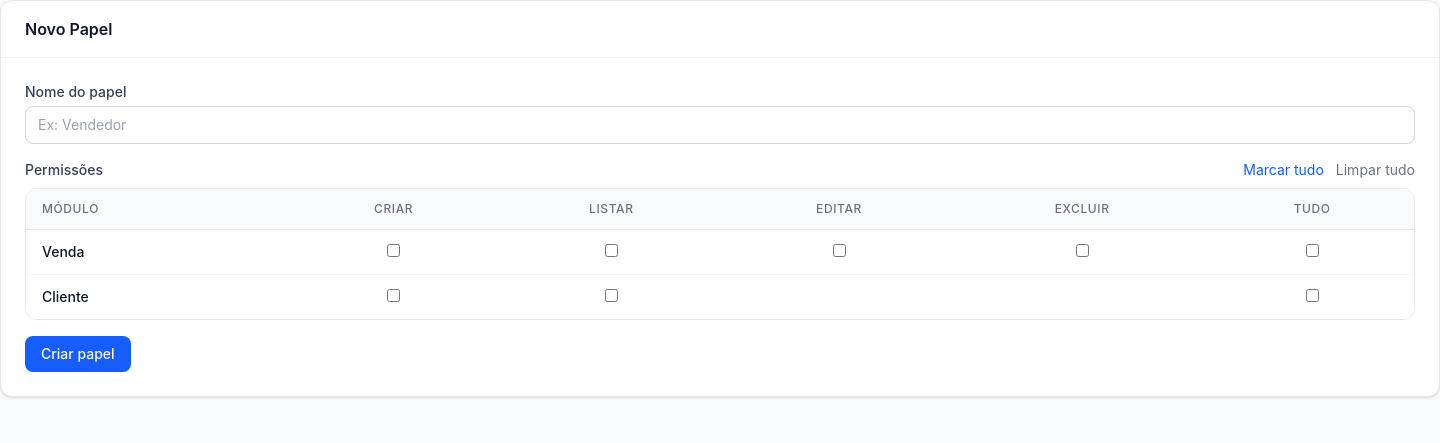
Test: PapelForm › should require at least one permissao selected
This screenshot has width=1440, height=443.
Step 1. Type "Vendedor" into the field labelled "Nome do papel" → (720, 125), box [25,106,1415,144]
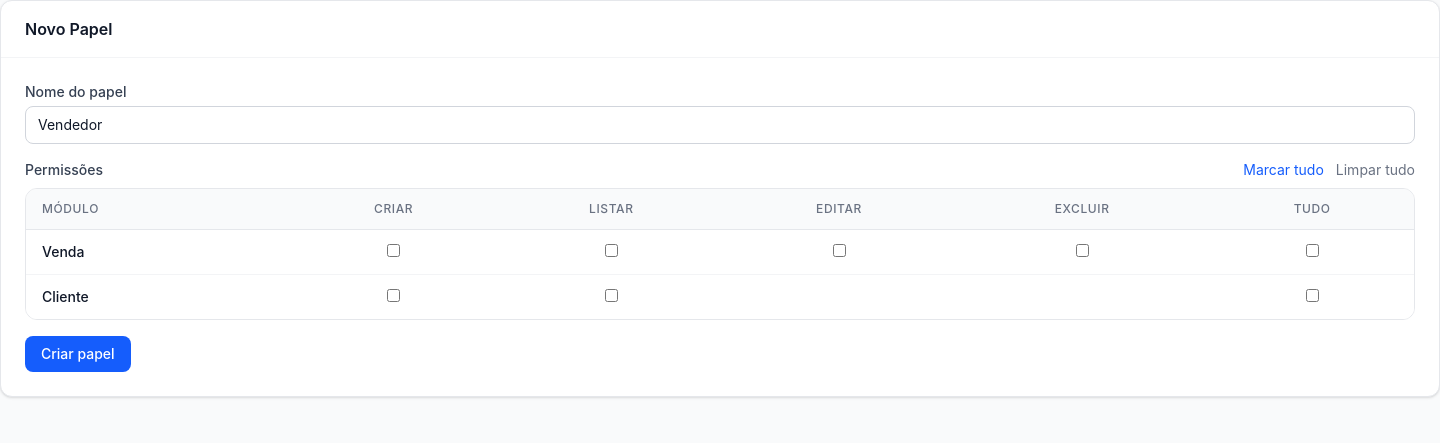
Step 2. Click the button "Criar papel" → (78, 354), box [25,336,131,372]
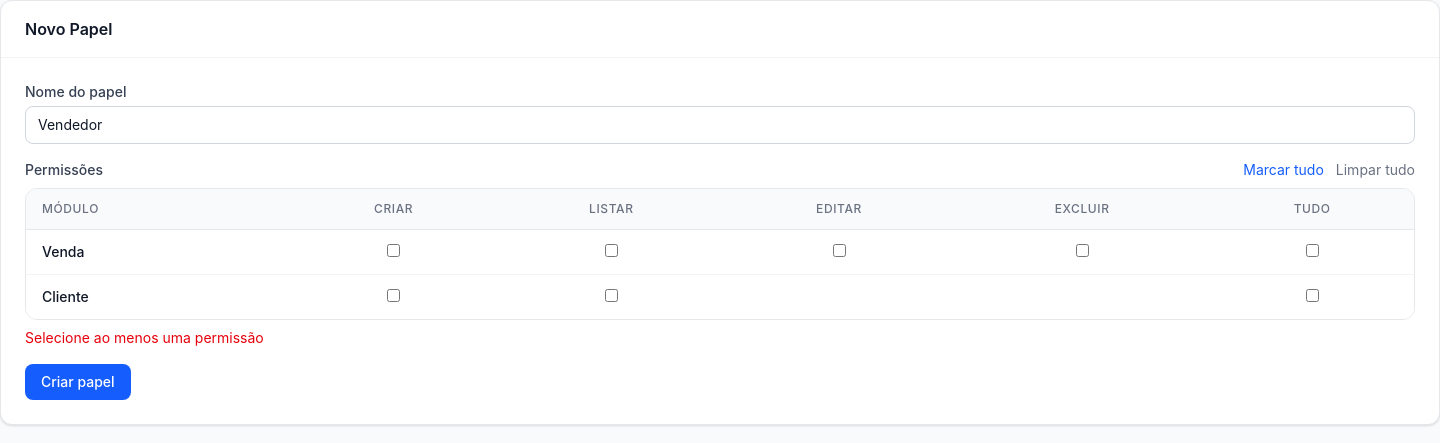
Now the text "Selecione ao menos uma permissão" is shown, box [25,329,264,346]
